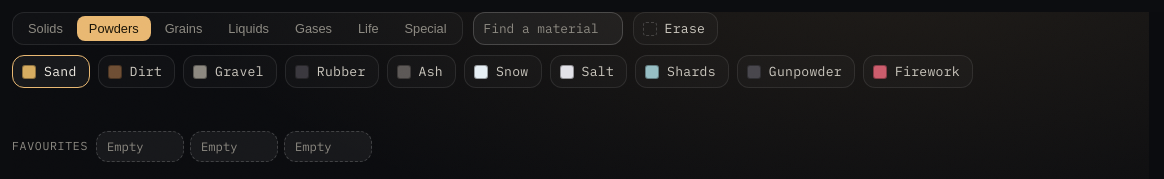
Scenario: Palette › swaps what a slot holds when it is pressed twice
Click the button with aria-label "Favourite 1, empty". click: (140, 146)
box: [96, 131, 184, 162]
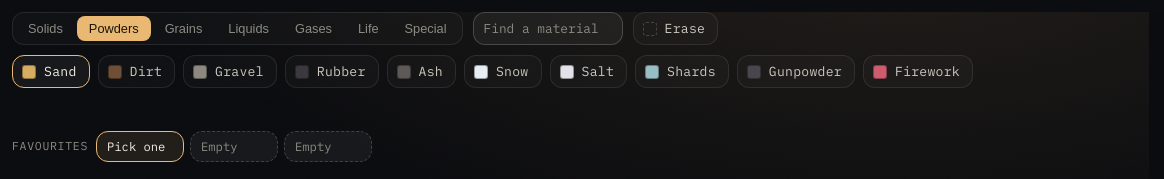
Click the button "Gravel". click: (230, 72)
box: [183, 55, 277, 88]
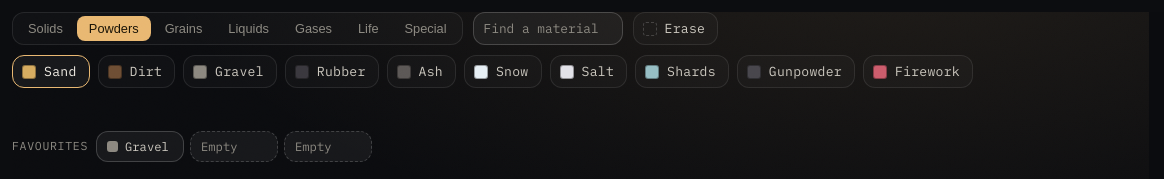
Note: A second press asks for something else, and the next pick replaces what was in there.
Click the button with aria-label "Favourite 1, Gravel". click: (140, 146)
box: [96, 131, 184, 162]
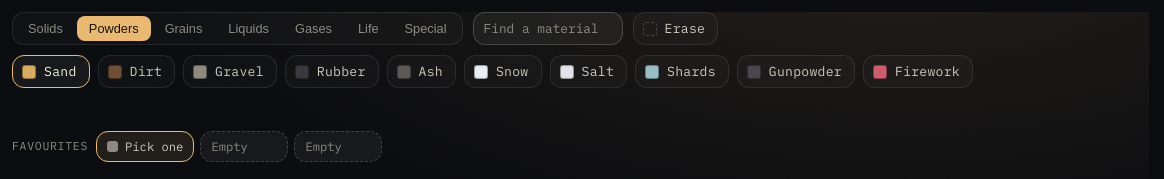
Click the button "Dirt". click: (136, 72)
box: [98, 55, 175, 88]
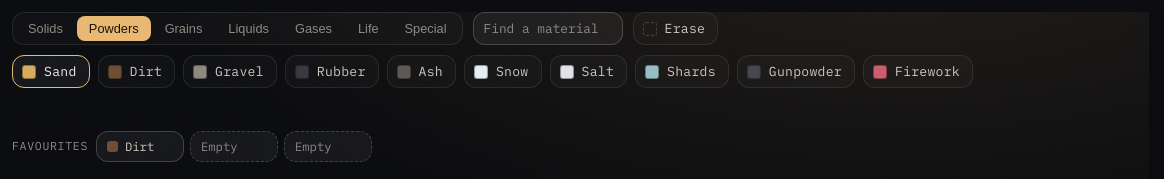
Expected: the button with aria-label "Favourite 1, Dirt" is shown, [96, 131, 184, 162]
